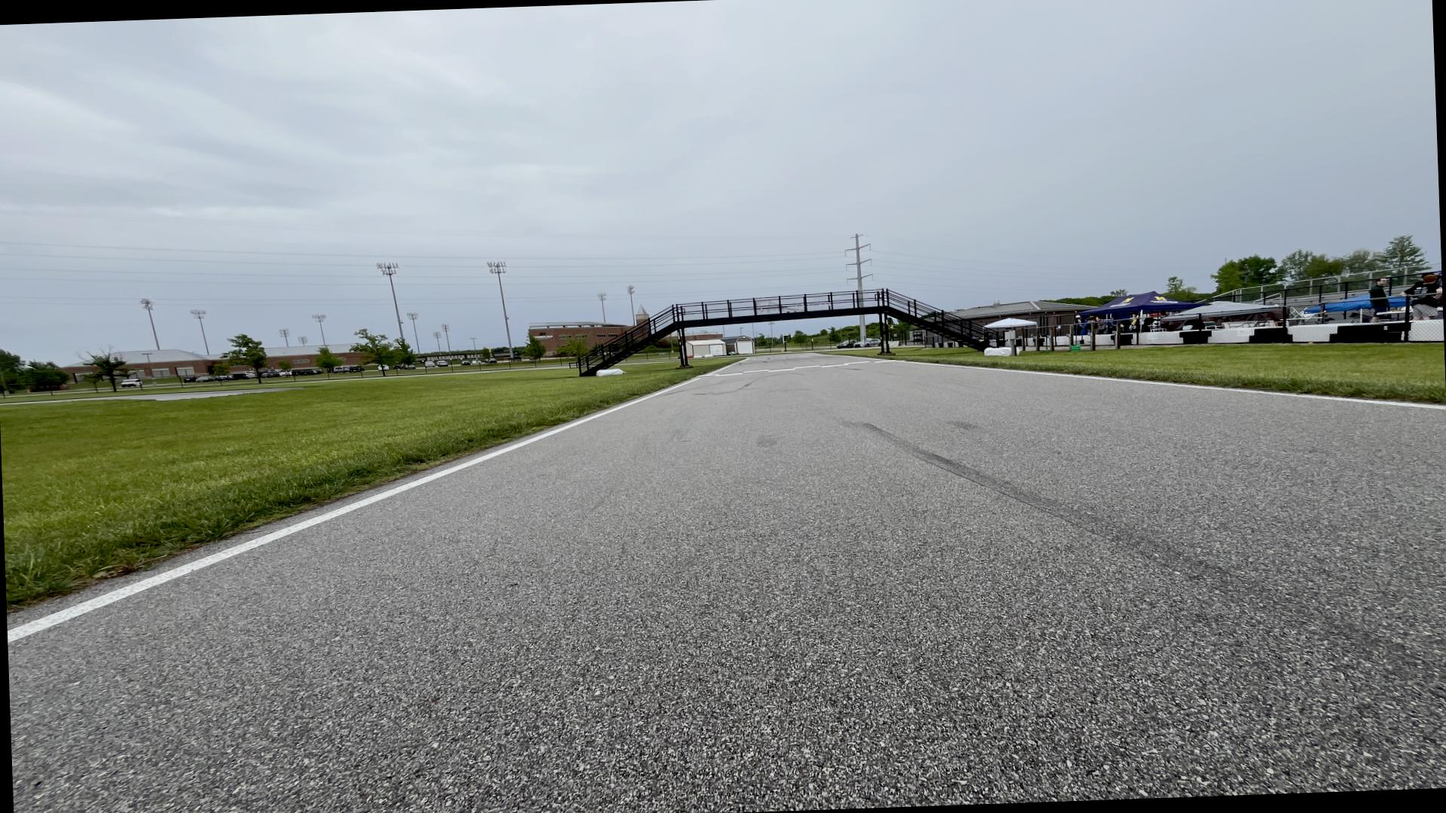white-line: (8, 379, 700, 644), (898, 361, 1445, 410), (707, 358, 749, 375), (804, 353, 886, 360)
